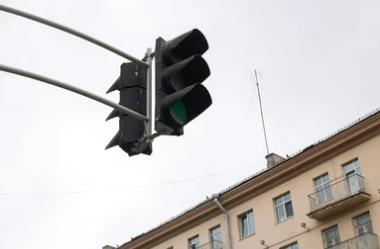green_light: (155, 28, 212, 136)
